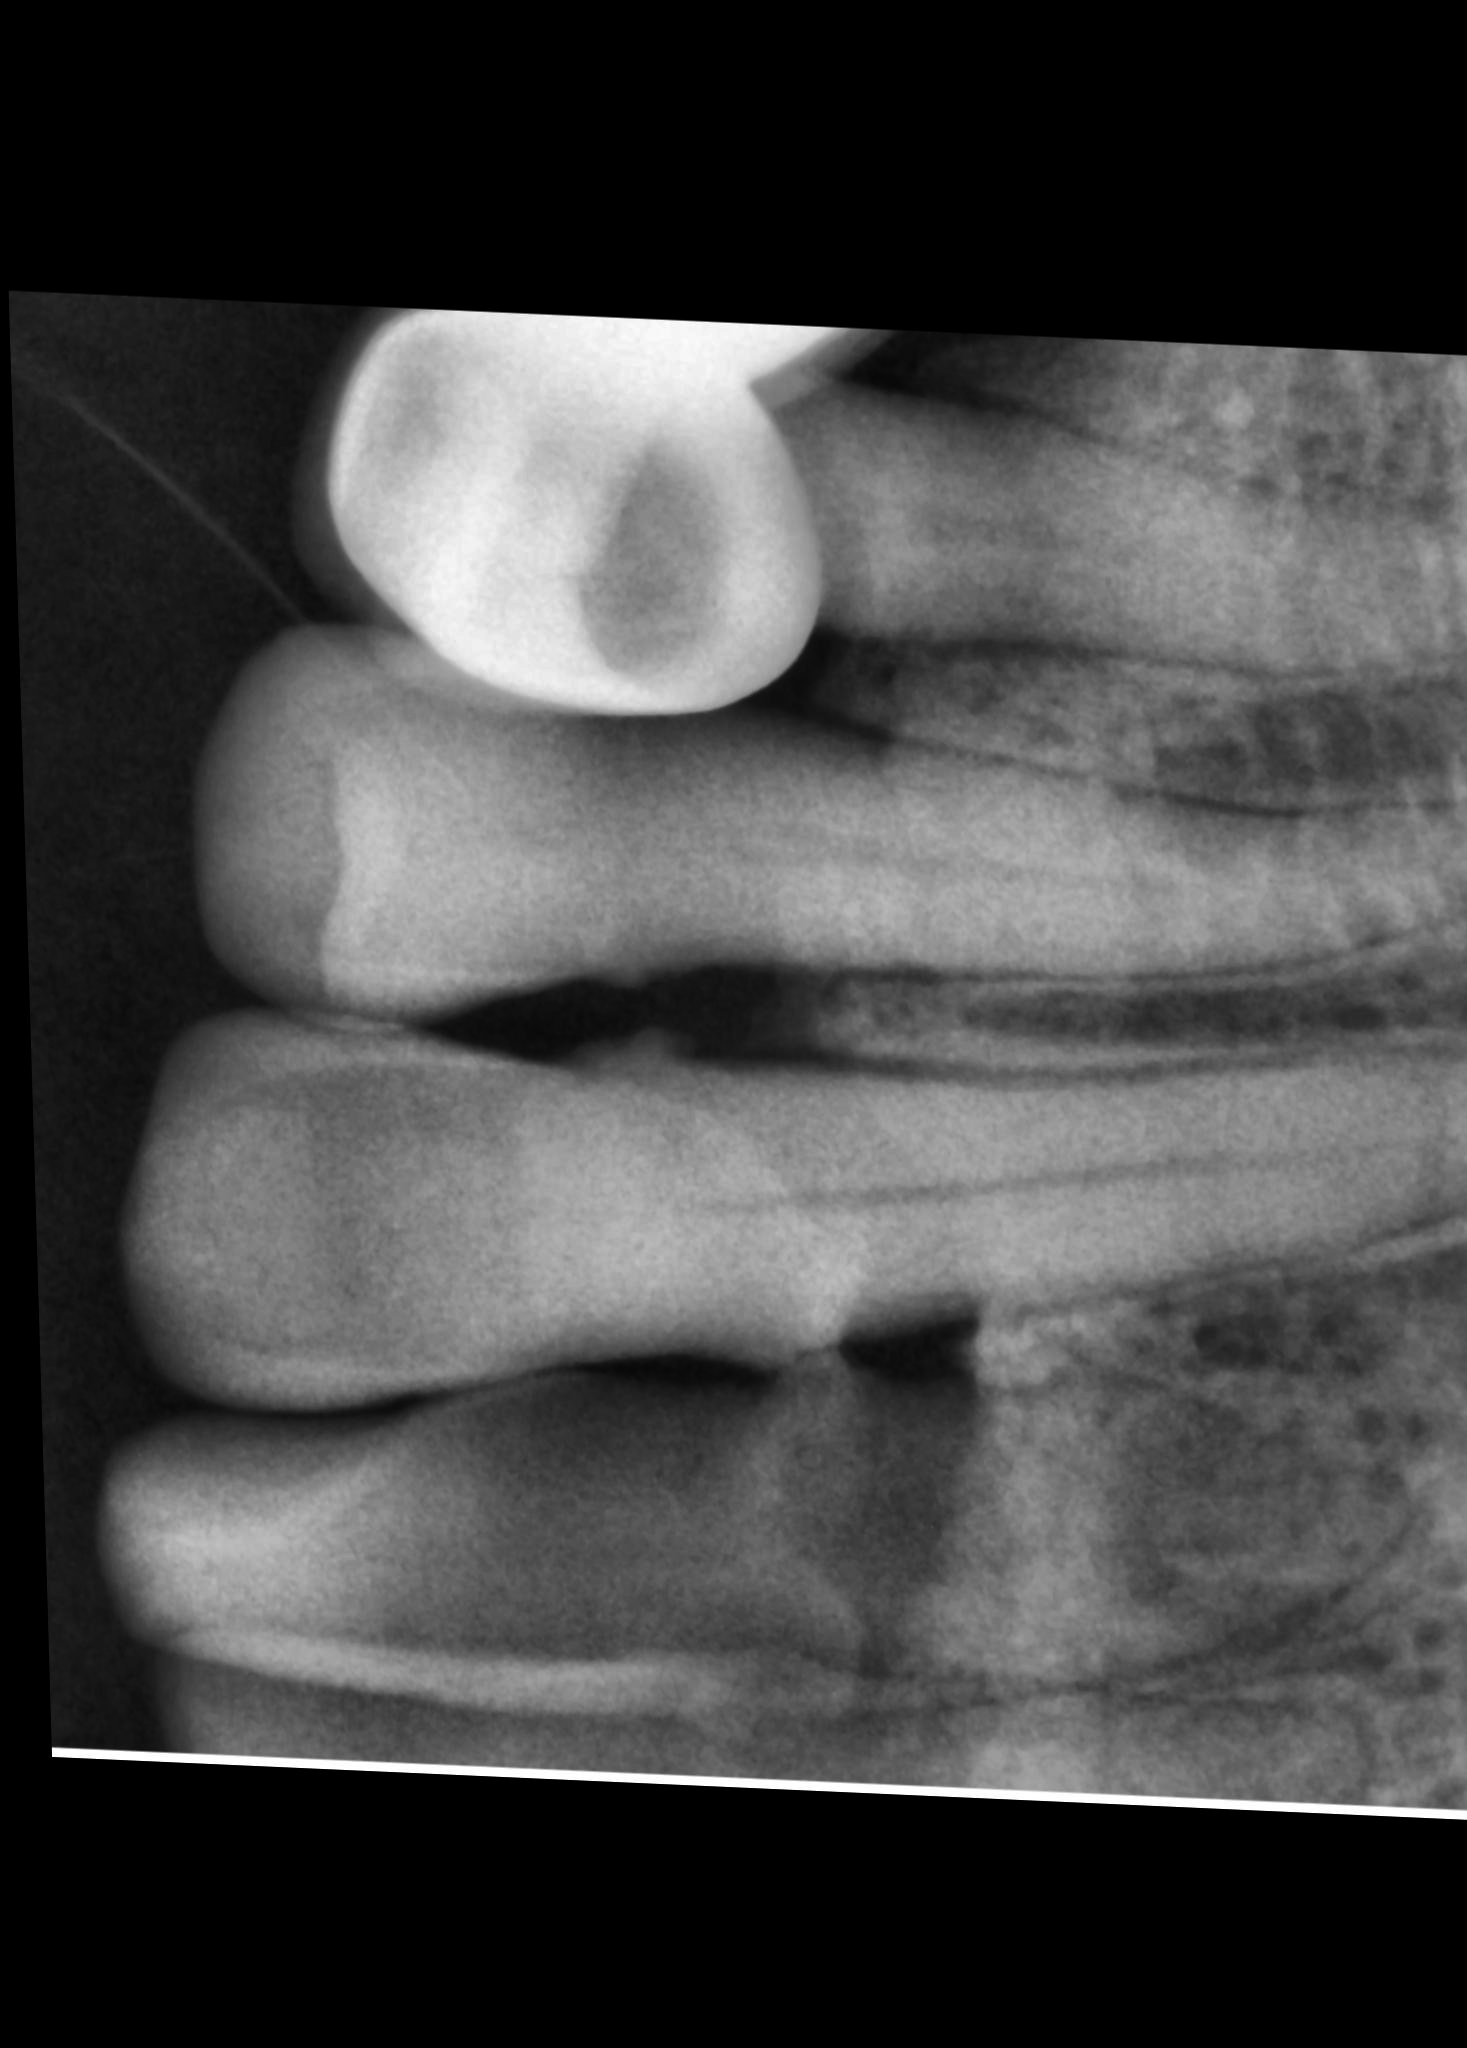Individual Tooth: (189, 624, 1467, 1016), (64, 1362, 1413, 1726), (291, 302, 1467, 706), (156, 1634, 1405, 1784)
